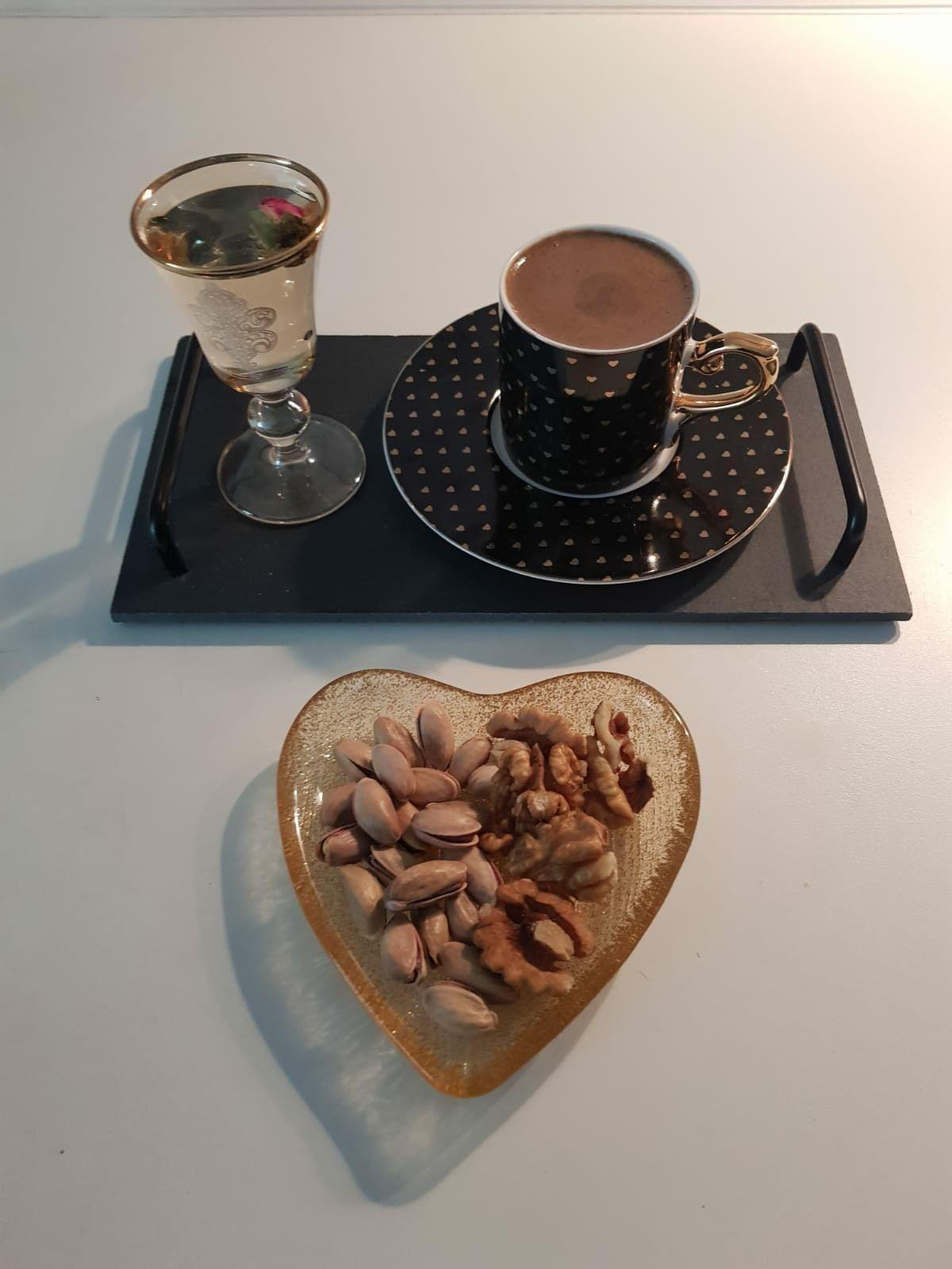cup-handle: (489, 223, 784, 496)
glass-wine: (128, 149, 368, 527)
